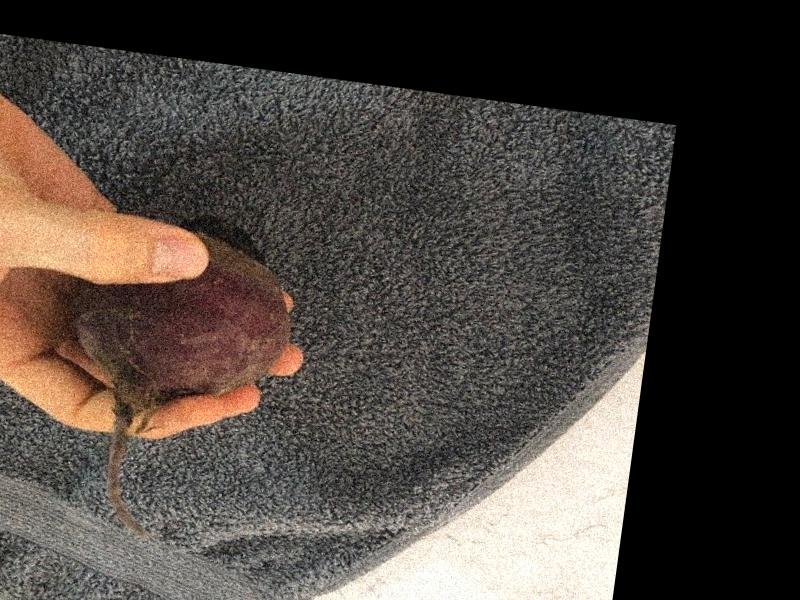Beet: (42, 200, 303, 553)
